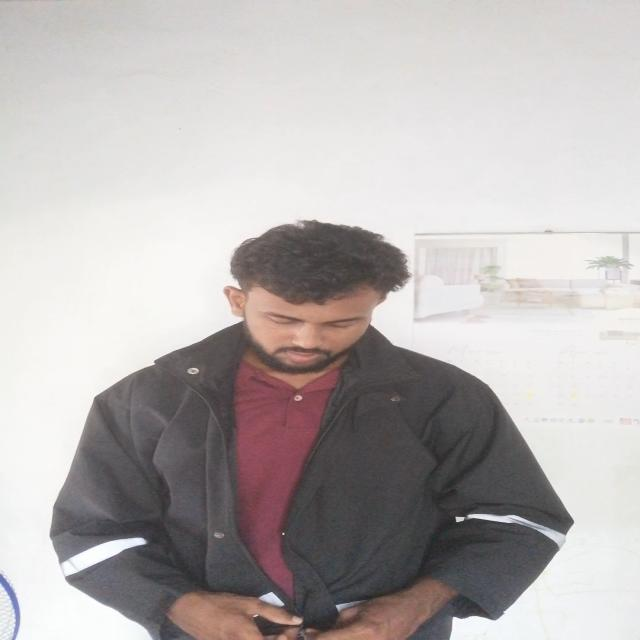Jacket_Wearer: (47, 304, 581, 634)
